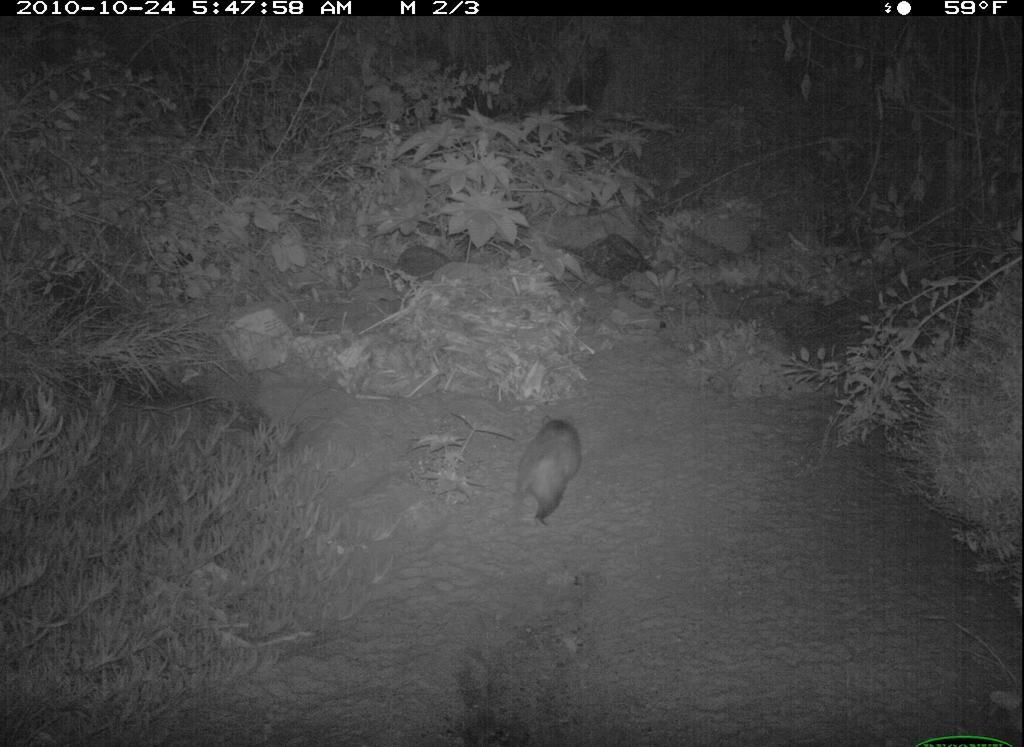opossum: (498, 410, 617, 545)
